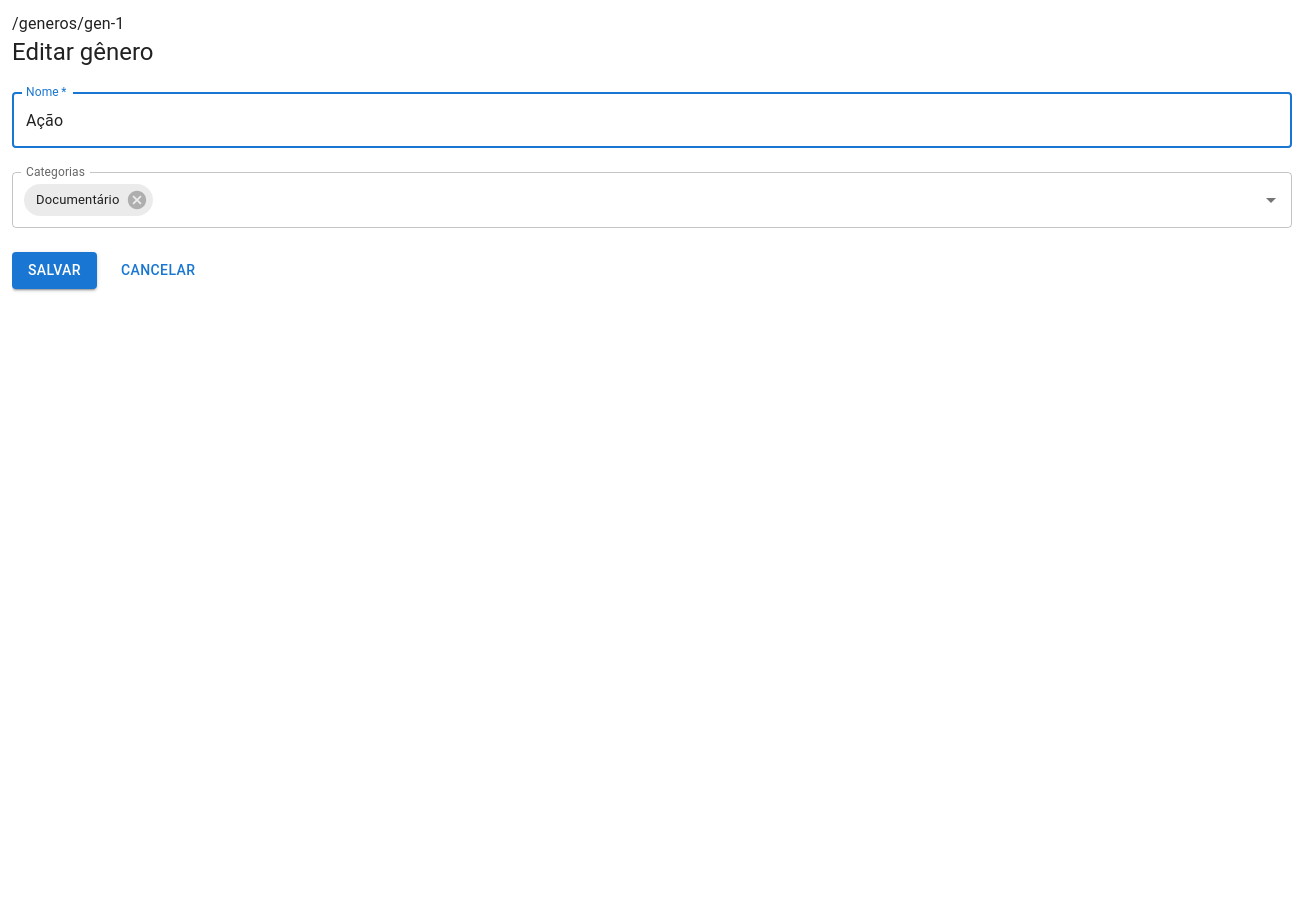
it: GenreEdit › givenNomeTrocado_whenSalva_thenMandaPutSemActive
The image size is (1304, 912).
Replace the text in the field showing "Ação" with "Aventura" at (652, 120), box [12,92,1292,148]
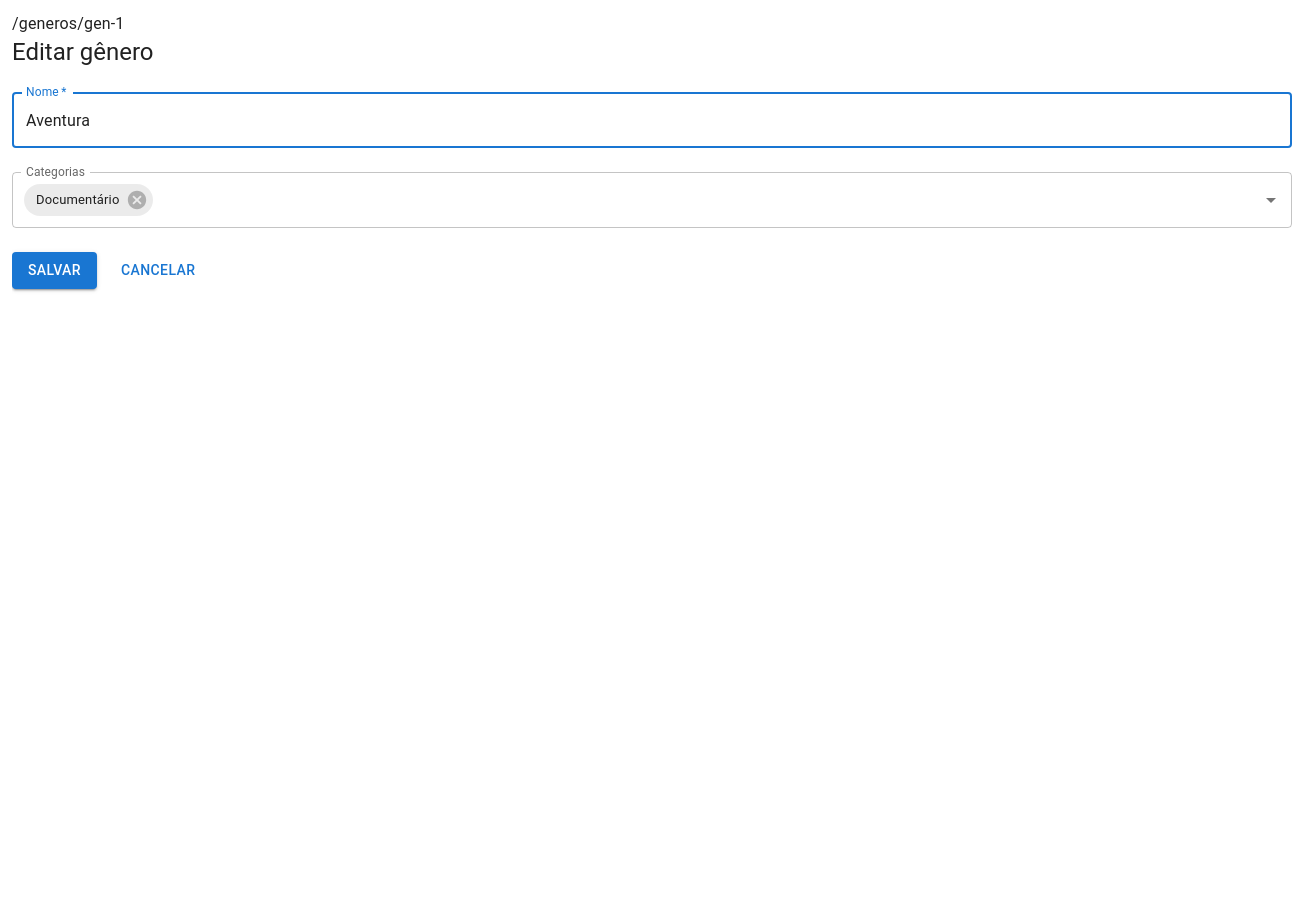
Click the button "Salvar" at (54, 270), box [12,252,97,288]
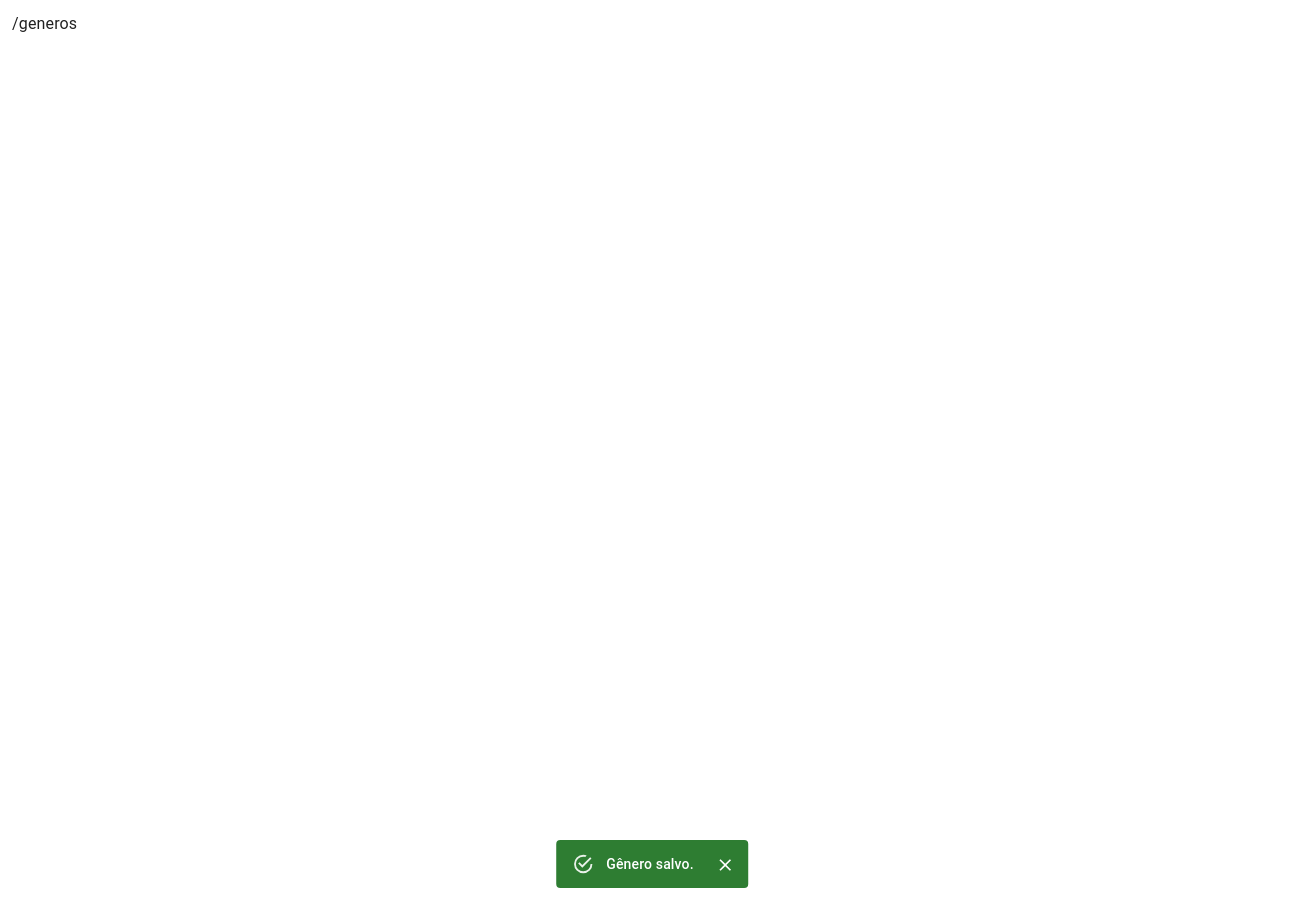
expect the text with test id "rota" reads "/generos": met, box [12,14,77,33]
expect the text "Gênero salvo." is shown: met, box [606,856,694,872]
